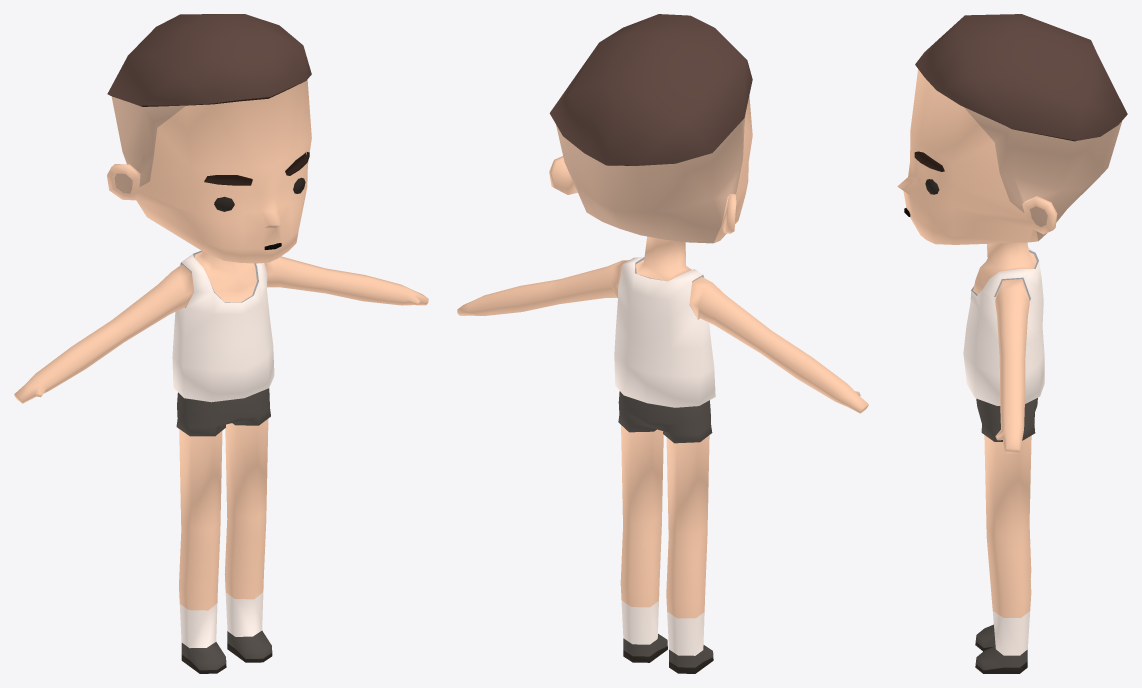
File: low_poly_little_boy_horror.glb
3 renders of one model, left to right at view 1: azimuth 30°, elevation 25°; view 2: azimuth 150°, elevation 25°; view 3: azimuth 270°, elevation 25°, orthographic.
Visible parts, largest first — view 1: body; view 2: body; view 3: body.
Boxes of the visible parts, x1,y1,x2,y2 form: body: [14, 14, 428, 673]; body: [457, 14, 868, 673]; body: [897, 14, 1127, 673].
Bounding box in the file's own units: 1.08 × 1.6 × 0.5291.
Materials: 1 (1 with a texture image).
